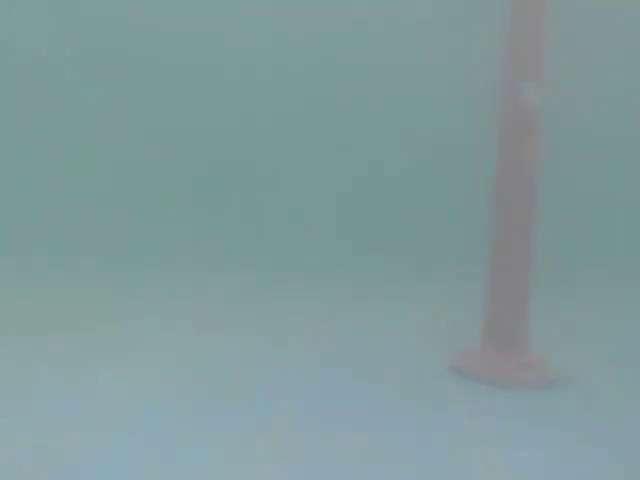flare: (440, 0, 566, 398)
